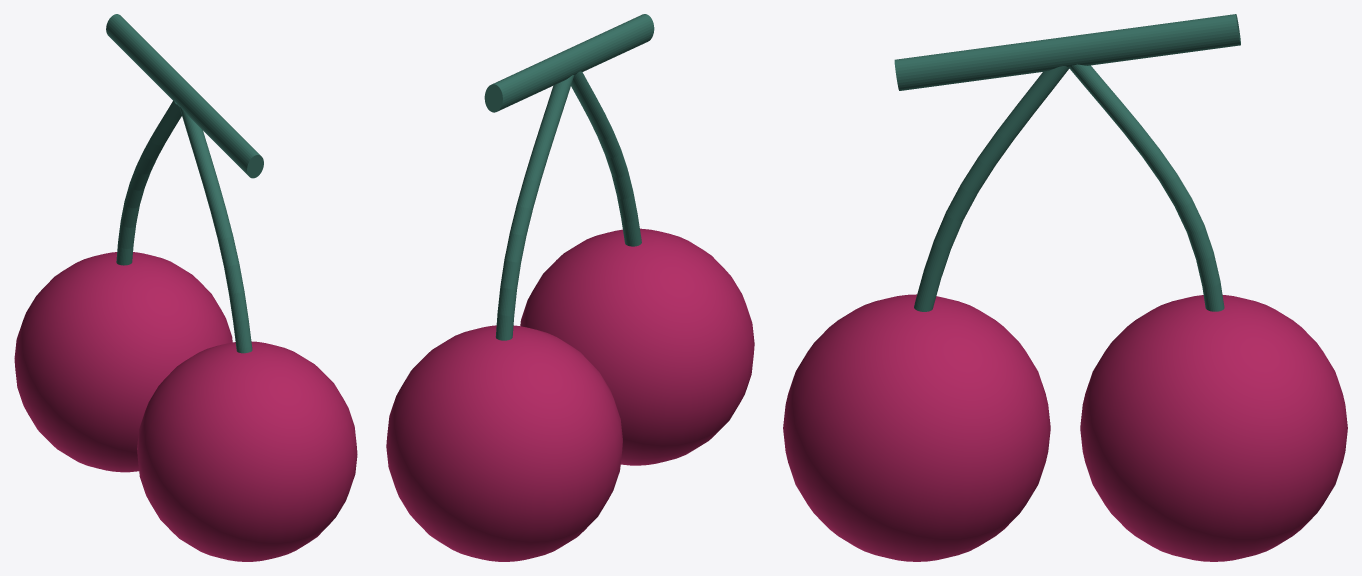
The model's file is cherry.glb.
3 renders of one model, left to right at view 1: azimuth 30°, elevation 25°; view 2: azimuth 150°, elevation 25°; view 3: azimuth 270°, elevation 25°, orthographic. The views are drawn at different scales.
Visible parts, largest first — view 1: Sphere, Sphere.001, Cylinder.002, Cylinder, Cylinder.001; view 2: Sphere.001, Sphere, Cylinder.002, Cylinder.001, Cylinder; view 3: Sphere.001, Sphere, Cylinder.002, Cylinder.001, Cylinder.
Boxes of the visible parts, bbox=[...] form: Sphere: bbox=[137, 341, 357, 561]; Sphere.001: bbox=[14, 252, 232, 472]; Cylinder.002: bbox=[106, 14, 263, 178]; Cylinder: bbox=[179, 106, 252, 353]; Cylinder.001: bbox=[116, 101, 181, 265]; Sphere.001: bbox=[386, 325, 622, 561]; Sphere: bbox=[520, 228, 754, 465]; Cylinder.002: bbox=[484, 14, 654, 112]; Cylinder.001: bbox=[495, 75, 574, 340]; Cylinder: bbox=[571, 71, 641, 246]; Sphere.001: bbox=[1080, 295, 1347, 561]; Sphere: bbox=[783, 294, 1050, 561]; Cylinder.002: bbox=[894, 14, 1240, 90]; Cylinder.001: bbox=[1069, 64, 1224, 311]; Cylinder: bbox=[914, 66, 1069, 311].
Size of the model in its own units: 2 by 4.41 by 4.22.
